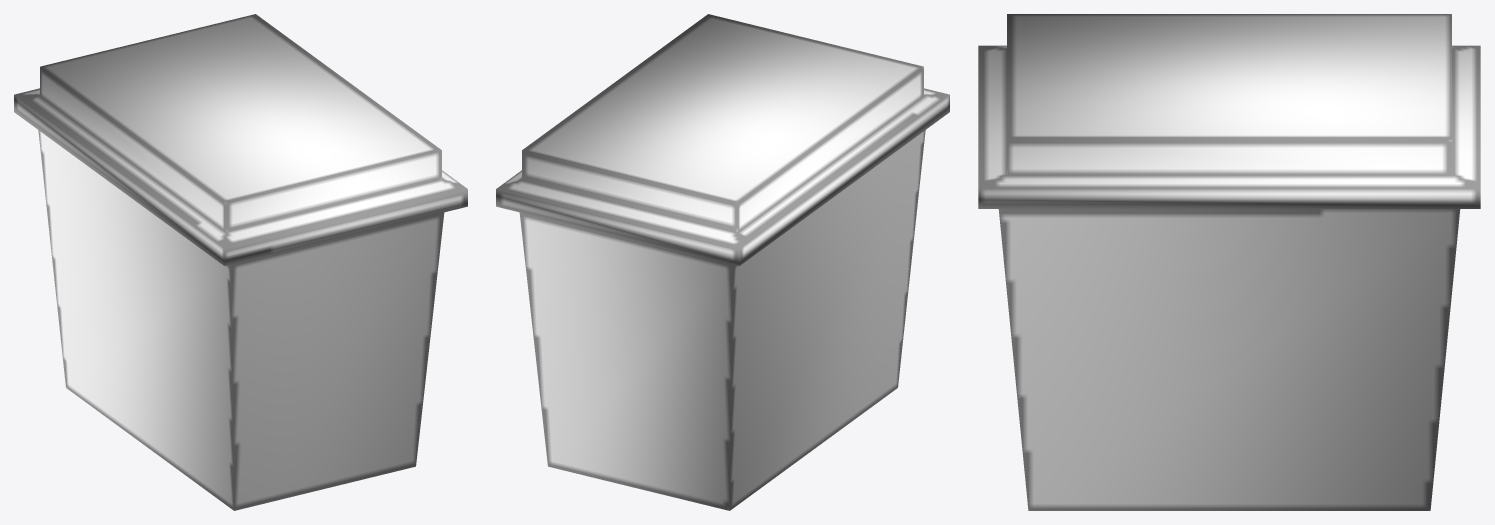
Rendered from shotgun_ammo.obj.
3 renders of one model, left to right at view 1: azimuth 30°, elevation 25°; view 2: azimuth 150°, elevation 25°; view 3: azimuth 270°, elevation 25°, orthographic. The views are drawn at different scales.
Visible parts, largest first — view 1: cube1; view 2: cube1; view 3: cube1.
Boxes of the visible parts, <box> form: cube1: <box>14,14,467,510</box>; cube1: <box>496,14,949,510</box>; cube1: <box>978,14,1480,510</box>.
Bounding box in the file's own units: 0.8357 × 1.05 × 1.25.
Materials: 1 (1 with a texture image).
